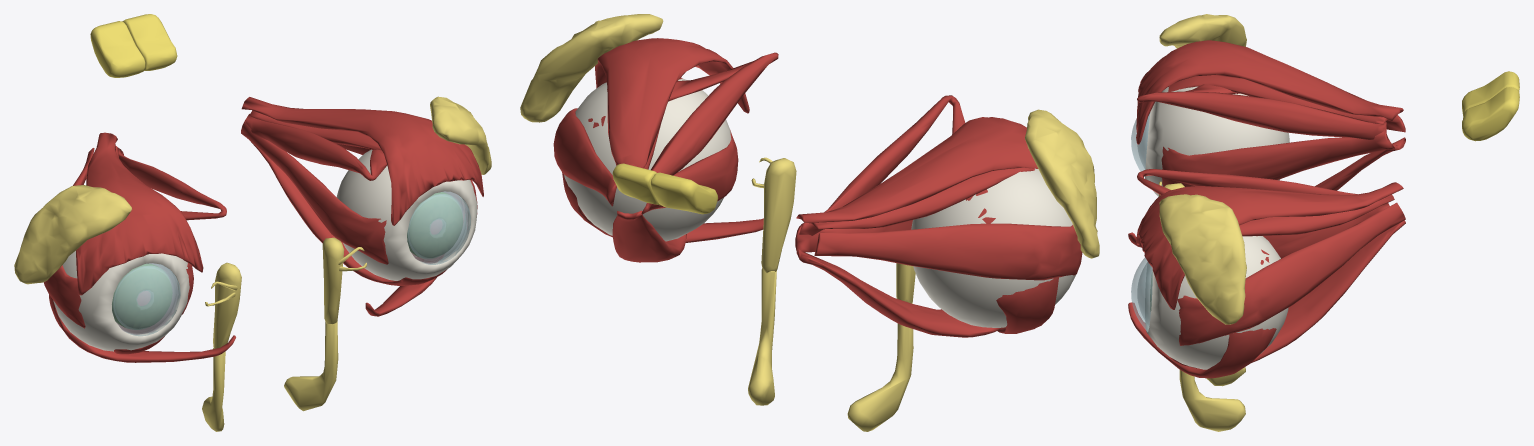
The model's file is zanatomy-eye.glb.
3 renders of one model, left to right at view 1: azimuth 30°, elevation 25°; view 2: azimuth 150°, elevation 25°; view 3: azimuth 270°, elevation 25°, orthographic. The views are drawn at different scales.
Visible parts, largest first — view 1: za_lps_1, za_lps_2, za_sclera_1, za_lacrimal_gland_2, za_sclera_2, za_mr_1, za_cornea_2, za_cornea_1, za_so_1, za_iris_2, za_anterior_chamber_2, za_iris_1 (+15 smaller); view 2: za_lr_2, za_sclera_2, za_lps_1, za_lps_2, za_sclera_1, za_lacrimal_gland_2, za_lacrimal_gland_1, za_so_1, za_ir_2, za_so_2, za_lr_1, za_sr_2 (+11 smaller); view 3: za_lr_1, za_lacrimal_gland_1, za_lps_2, za_lps_1, za_mr_2, za_so_2, za_sclera_2, za_sclera_1, za_ir_1, za_io_1, za_so_1, za_lacrimal_gland_2 (+10 smaller).
Boxes of the visible parts, x1=… form: za_lps_1: x1=241, y1=97, x2=483, y2=225; za_lps_2: x1=76, y1=132, x2=203, y2=295; za_sclera_1: x1=336, y1=149, x2=477, y2=280; za_lacrimal_gland_2: x1=14, y1=185, x2=132, y2=284; za_sclera_2: x1=53, y1=251, x2=189, y2=351; za_mr_1: x1=241, y1=121, x2=388, y2=264; za_cornea_2: x1=112, y1=263, x2=180, y2=336; za_cornea_1: x1=407, y1=191, x2=470, y2=264; za_so_1: x1=245, y1=114, x2=387, y2=180; za_iris_2: x1=112, y1=264, x2=172, y2=329; za_anterior_chamber_2: x1=113, y1=266, x2=175, y2=331; za_iris_1: x1=407, y1=192, x2=462, y2=257; za_lr_2: x1=814, y1=223, x2=1082, y2=280; za_sclera_2: x1=911, y1=168, x2=1076, y2=327; za_lps_1: x1=595, y1=38, x2=749, y2=168; za_lps_2: x1=796, y1=117, x2=1038, y2=222; za_sclera_1: x1=564, y1=78, x2=731, y2=241; za_lacrimal_gland_2: x1=1025, y1=109, x2=1099, y2=258; za_lacrimal_gland_1: x1=520, y1=14, x2=663, y2=122; za_so_1: x1=588, y1=52, x2=778, y2=175; za_ir_2: x1=796, y1=249, x2=999, y2=337; za_so_2: x1=799, y1=95, x2=995, y2=235; za_lr_1: x1=553, y1=108, x2=616, y2=206; za_sr_2: x1=809, y1=167, x2=1034, y2=229; za_lr_1: x1=1177, y1=202, x2=1405, y2=345; za_lacrimal_gland_1: x1=1159, y1=194, x2=1246, y2=324; za_lps_2: x1=1136, y1=40, x2=1403, y2=144; za_lps_1: x1=1136, y1=182, x2=1403, y2=309; za_mr_2: x1=1161, y1=129, x2=1394, y2=186; za_so_2: x1=1137, y1=84, x2=1386, y2=139; za_sclera_2: x1=1145, y1=86, x2=1289, y2=196; za_sclera_1: x1=1145, y1=236, x2=1288, y2=369; za_ir_1: x1=1170, y1=220, x2=1405, y2=368; za_io_1: x1=1128, y1=302, x2=1276, y2=378; za_so_1: x1=1137, y1=169, x2=1357, y2=264; za_lacrimal_gland_2: x1=1159, y1=14, x2=1246, y2=48.
Bounding box in the file's own units: 0.101 × 0.0613 × 0.0673.
